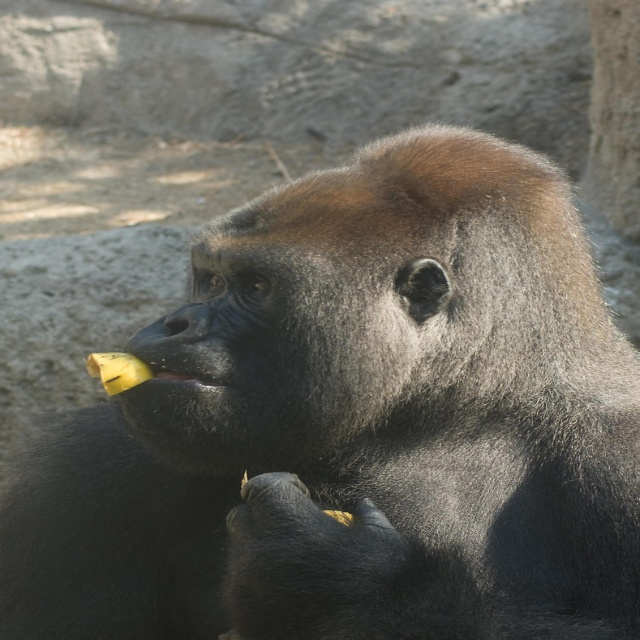Monkey: (58, 208, 630, 577)
